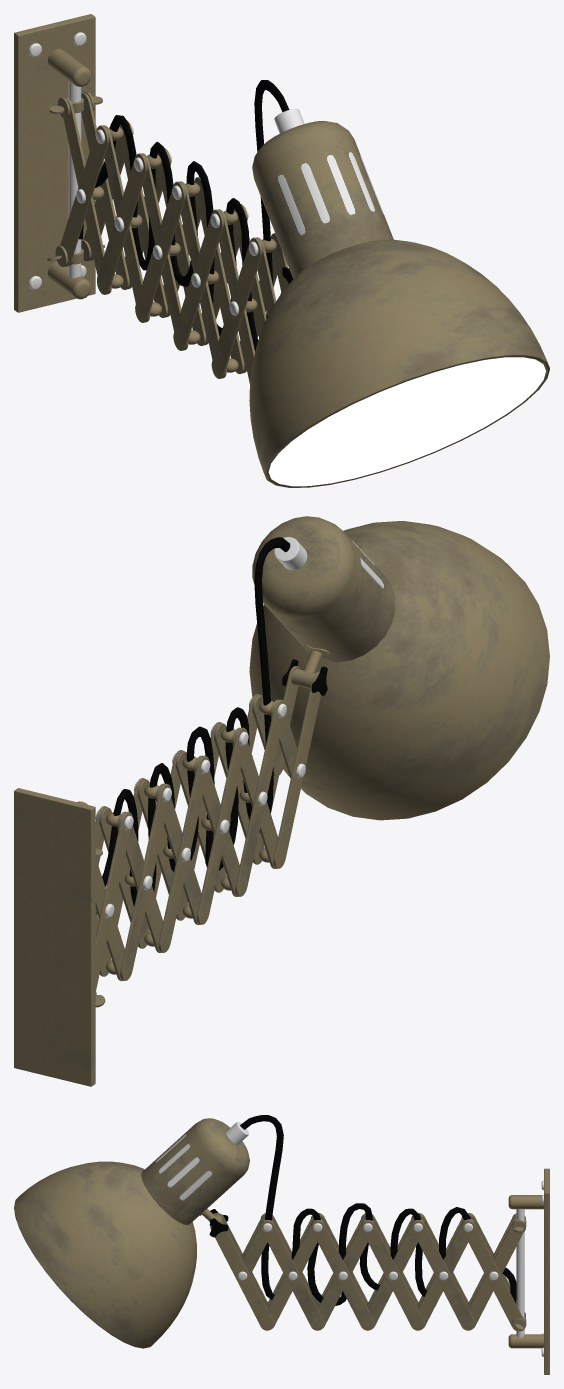
Rendered from MEGA_PACK_lamp__lamp-13171_Frame_GunMetal.glb.
3 views of the same model, one above another, from view 1: azimuth 30°, elevation 25°; view 2: azimuth 150°, elevation 25°; view 3: azimuth 270°, elevation 25° (orthographic). The views are drawn at different scales.
Visible parts, largest first — view 1: lamp-13171_Frame_GunMetal; view 2: lamp-13171_Frame_GunMetal; view 3: lamp-13171_Frame_GunMetal.
Boxes of the visible parts, x1,y1,x2,y2 form: lamp-13171_Frame_GunMetal: [14, 14, 549, 487]; lamp-13171_Frame_GunMetal: [14, 516, 549, 1086]; lamp-13171_Frame_GunMetal: [14, 1115, 549, 1374].
Size of the model in its own units: 0.1699 by 0.2313 by 0.4536.
1 material, 1 textured.
